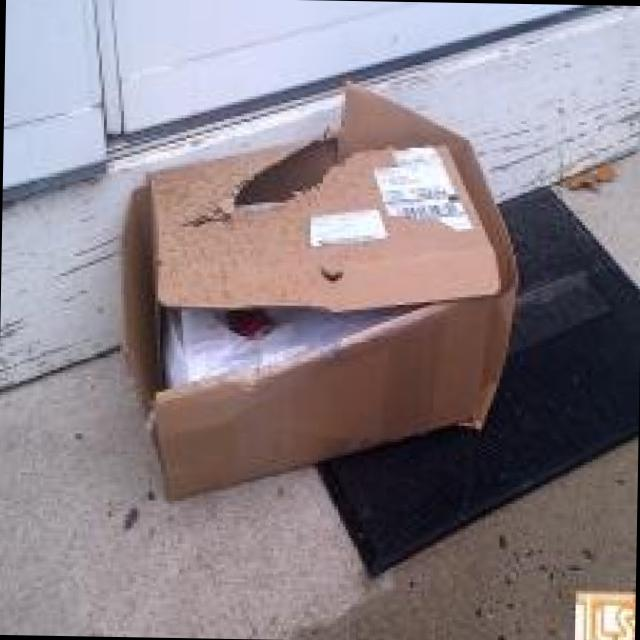box: (119, 85, 517, 503)
opened: (138, 85, 518, 400)
